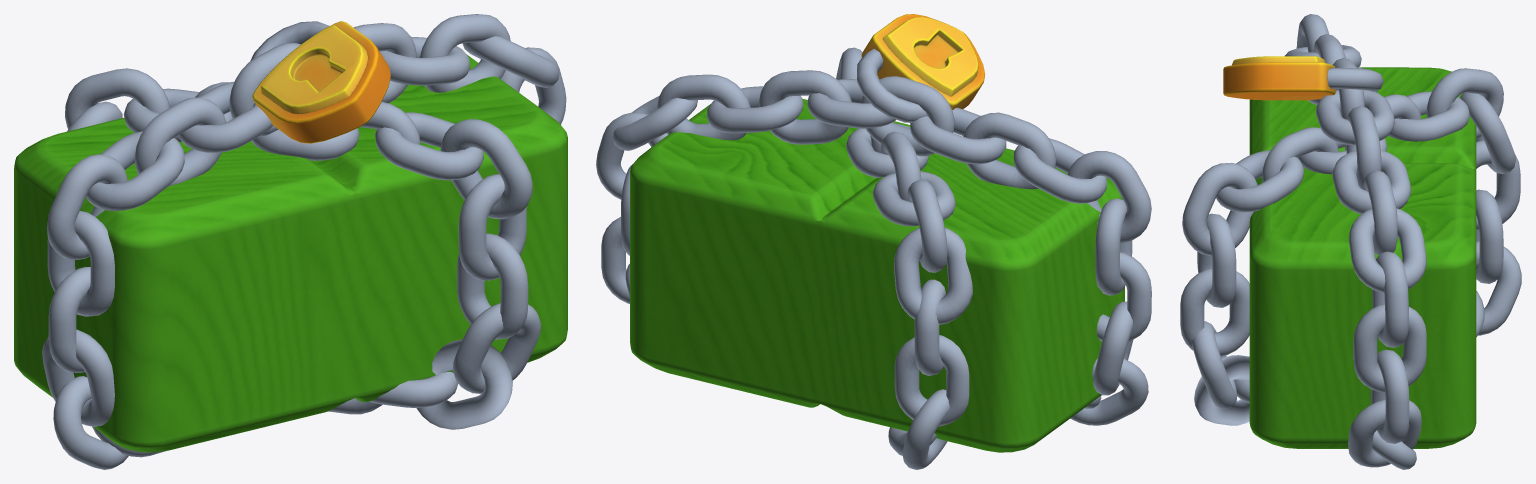
Rendered from Chain_Block_08.fbx.
3 views of the same model, side by side, from view 1: azimuth 30°, elevation 25°; view 2: azimuth 150°, elevation 25°; view 3: azimuth 270°, elevation 25° (orthographic). The views are drawn at different scales.
Parts seen in each view (by area): view 1: Chain_Block; view 2: Chain_Block; view 3: Chain_Block.
Boxes of the visible parts, x1,y1,x2,y2 form: Chain_Block: (14, 14, 567, 469); Chain_Block: (596, 14, 1151, 469); Chain_Block: (1180, 14, 1521, 469).
Size of the model in its own units: 2.51 by 1.65 by 1.51.
Materials: 2 (2 with a texture image).
